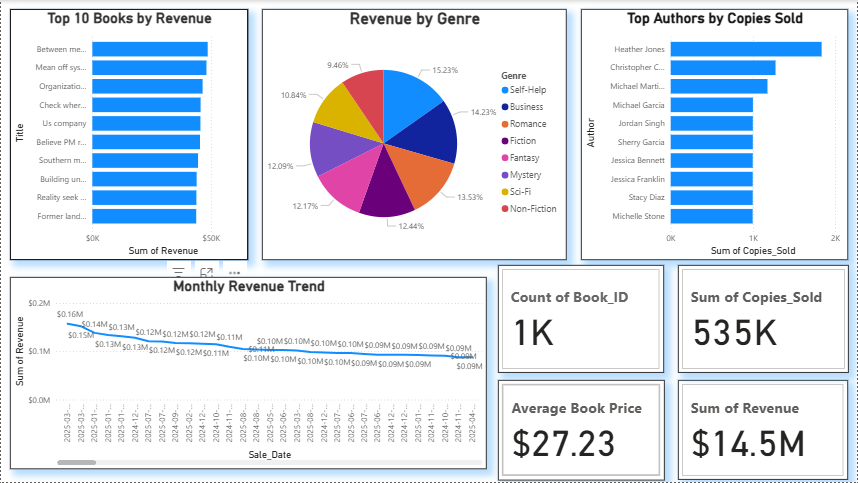

Layout of this report page (visuals, bound fields, positions):
{"tool":"powerbi","page":{"name":"Page 1","canvas":[1280,720],"ordinal":0},"visuals":[{"type":"clusteredBarChart","title":"Top 10 Books by Revenue","fields":{"Y":["Sum(books_analytics book_sales.Revenue)"],"Category":["books_analytics book_sales.Title"]},"box":[13.4,13.4,355.5,374.9],"z":0},{"type":"pieChart","title":"Revenue by Genre","fields":{"Category":["books_analytics book_sales.Genre"],"Y":["Sum(books_analytics book_sales.Revenue)"]},"box":[389.7,13.4,455.2,374.6],"z":1000},{"type":"clusteredBarChart","title":"Top Authors by Copies Sold","fields":{"Category":["books_analytics book_sales.Author"],"Y":["Sum(books_analytics book_sales.Copies_Sold)"]},"box":[866.4,13.4,398.8,374.9],"z":2000},{"type":"lineChart","title":"Monthly Revenue Trend","fields":{"Category":["books_analytics book_sales.Sale_Date"],"Y":["Sum(books_analytics book_sales.Revenue)"]},"box":[13.4,413.2,712.2,287.2],"z":3000},{"type":"cardVisual","title":"Total Revenue","fields":{"Data":["Sum(books_analytics book_sales.Revenue)"]},"box":[1011.3,567.6,253.9,149.4],"z":4000},{"type":"cardVisual","title":"Total Copies Sold","fields":{"Data":["Sum(books_analytics book_sales.Copies_Sold)"]},"box":[1011.3,395.9,255.4,161.3],"z":5000},{"type":"cardVisual","title":"Total Books","fields":{"Data":["CountNonNull(books_analytics book_sales.Book_ID)"]},"box":[742.4,395.9,248,161.3],"z":6000},{"type":"cardVisual","fields":{"Data":["books_analytics book_sales.Average_Book_Price"]},"box":[742.5,567.8,248.6,149.5],"z":7000}]}

Visuals, with their boxes in screenshot pixels (x1, y1, x2, y2), scaled from the page's 1280x720 canvas onto the 858x483 screenshot:
"Top 10 Books by Revenue" clusteredBarChart: crop(9, 9, 247, 260)
"Revenue by Genre" pieChart: crop(261, 9, 566, 260)
"Top Authors by Copies Sold" clusteredBarChart: crop(581, 9, 848, 260)
"Monthly Revenue Trend" lineChart: crop(9, 277, 486, 470)
"Total Revenue" cardVisual: crop(678, 381, 848, 481)
"Total Copies Sold" cardVisual: crop(678, 266, 849, 374)
"Total Books" cardVisual: crop(498, 266, 664, 374)
cardVisual - books_analytics book_sales.Average_Book_Price: crop(498, 381, 664, 481)
